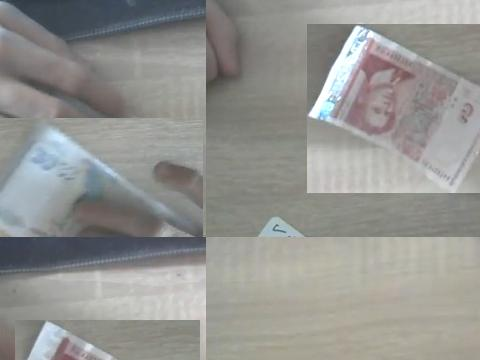20leva: (0, 118, 203, 237)
5leva: (307, 24, 480, 193)
